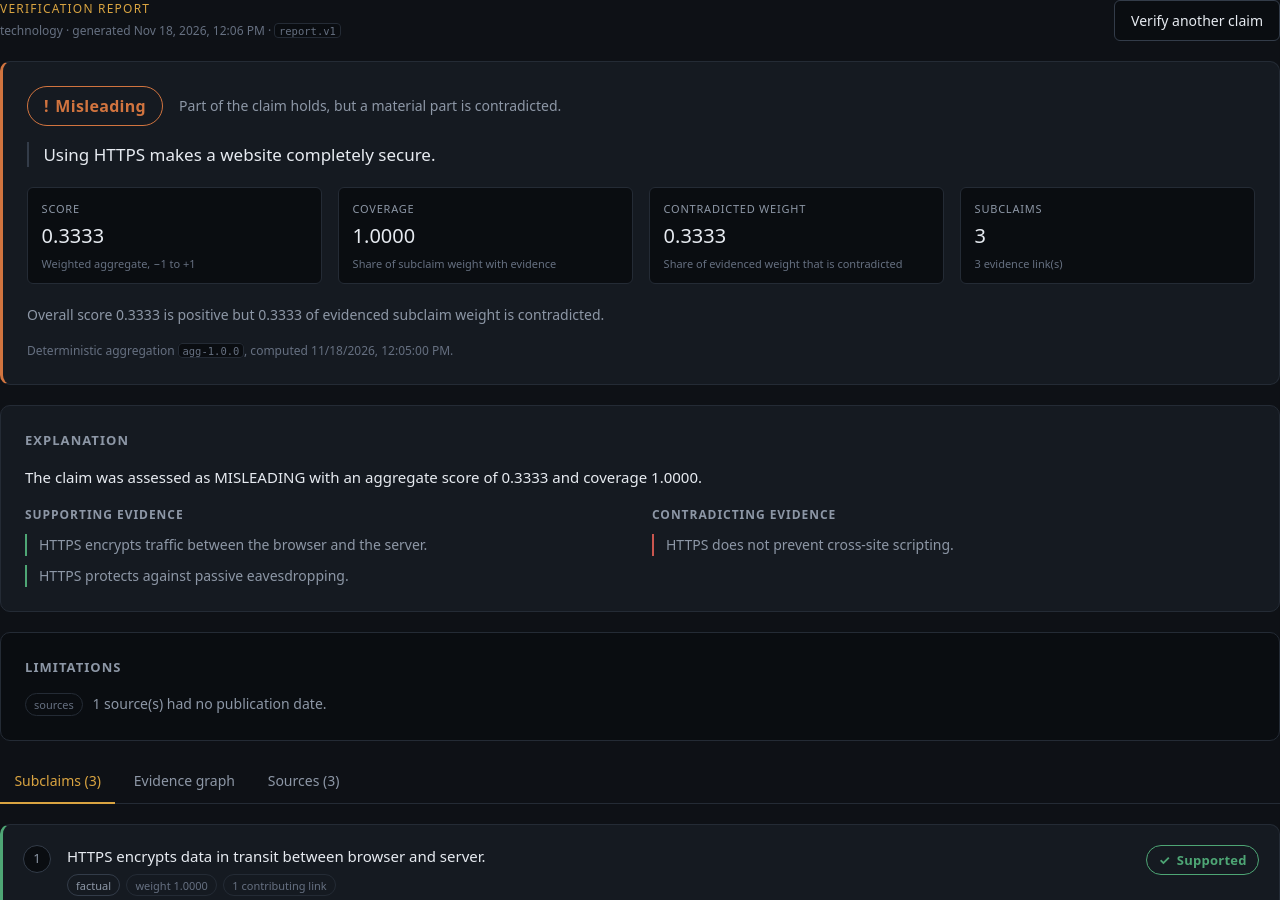
Test: ReportView — sources › shows "not assessed" for a null authority score
Click the tab "Sources (3)" at {"x": 304, "y": 782}, box [253,761,354,804]
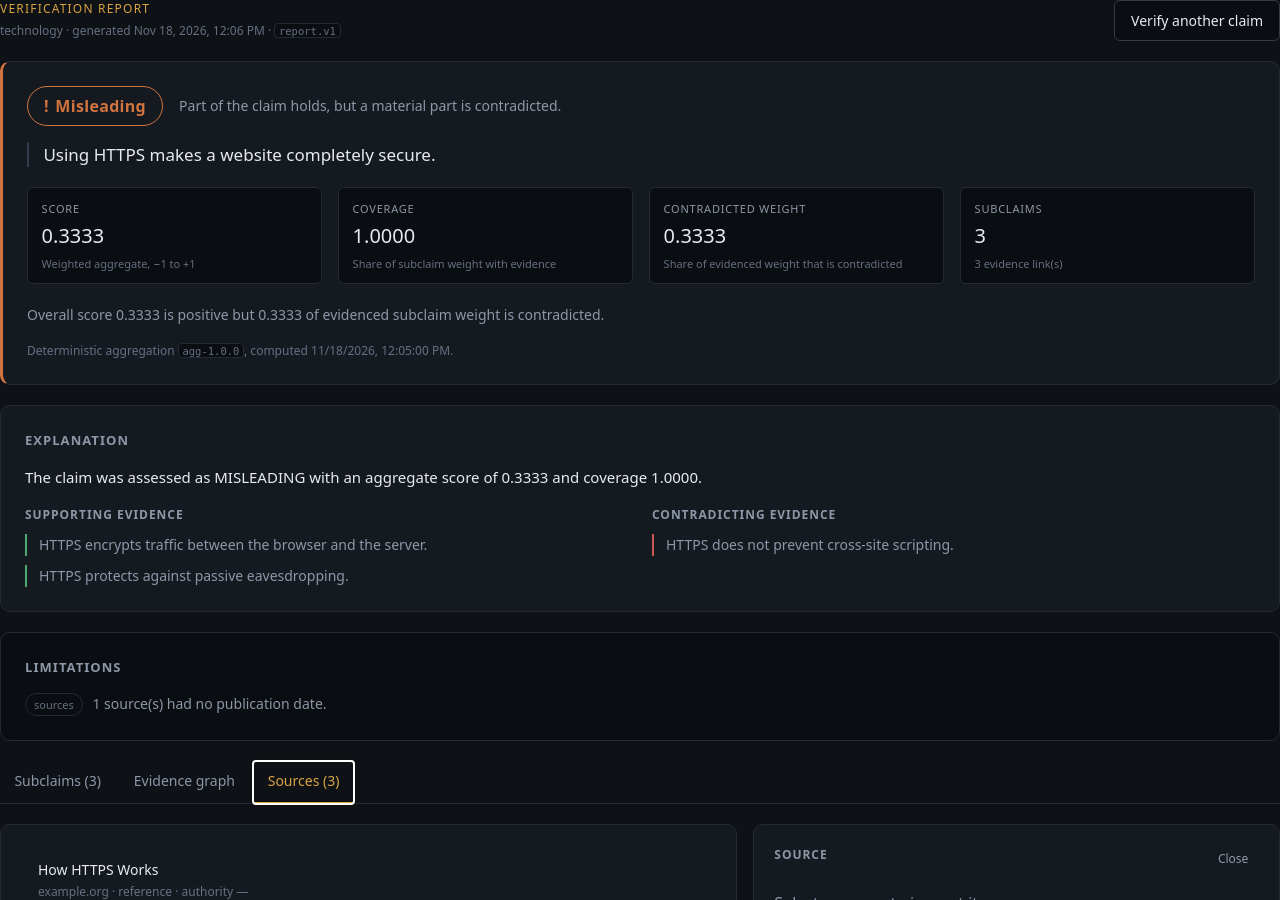
Click the text "How HTTPS Works" at {"x": 98, "y": 870}, box [38,859,158,881]
(page scrolled)
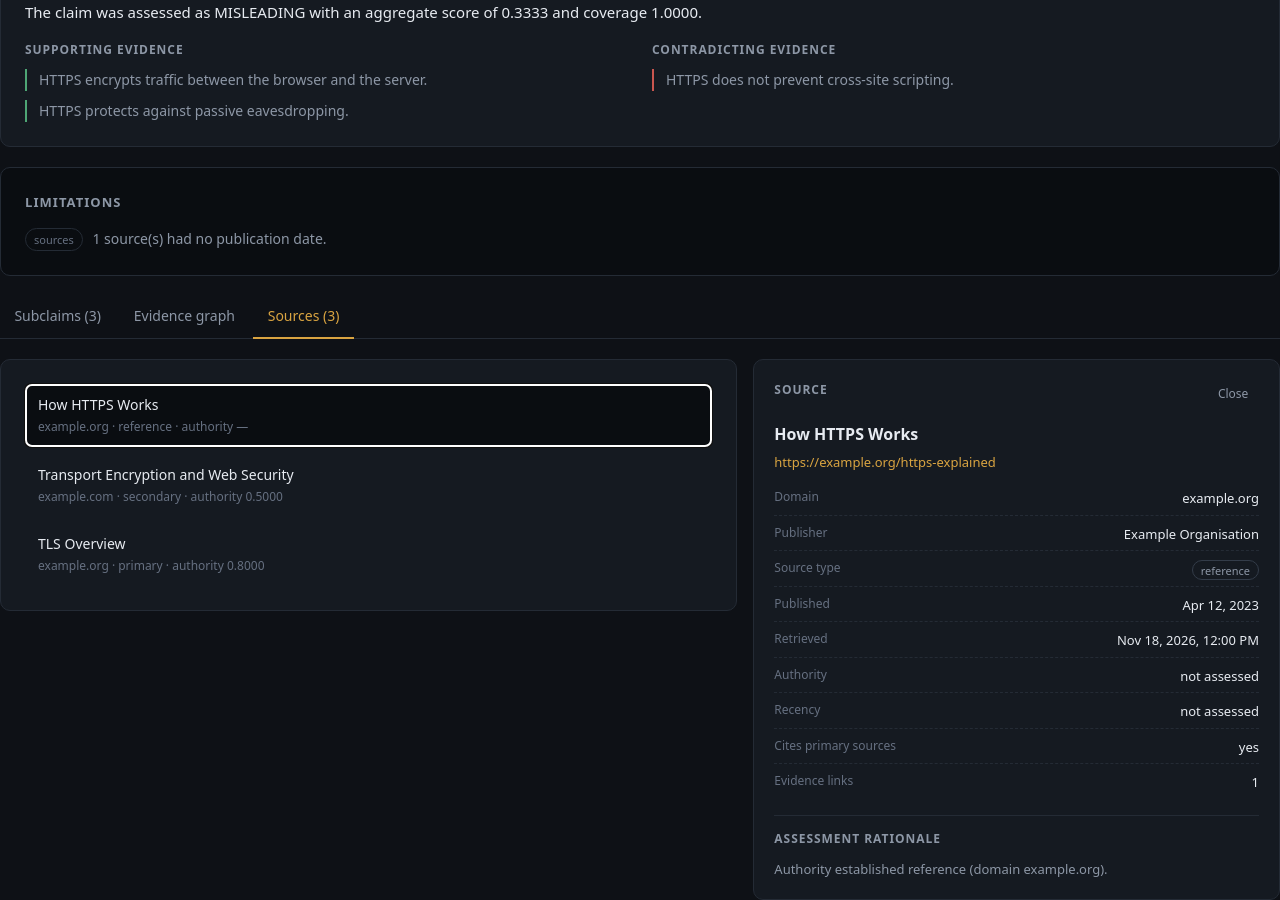
Result: the 1st text "not assessed" is shown at [1180,666,1259,686]
